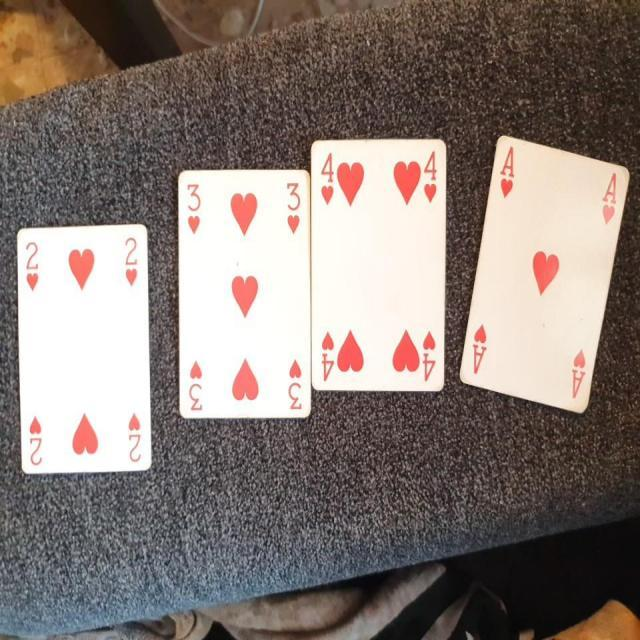2 of hearts: (5, 212, 167, 488)
3 of hearts: (172, 167, 312, 432)
4 of hearts: (308, 130, 451, 404)
ace of hearts: (454, 128, 632, 423)
